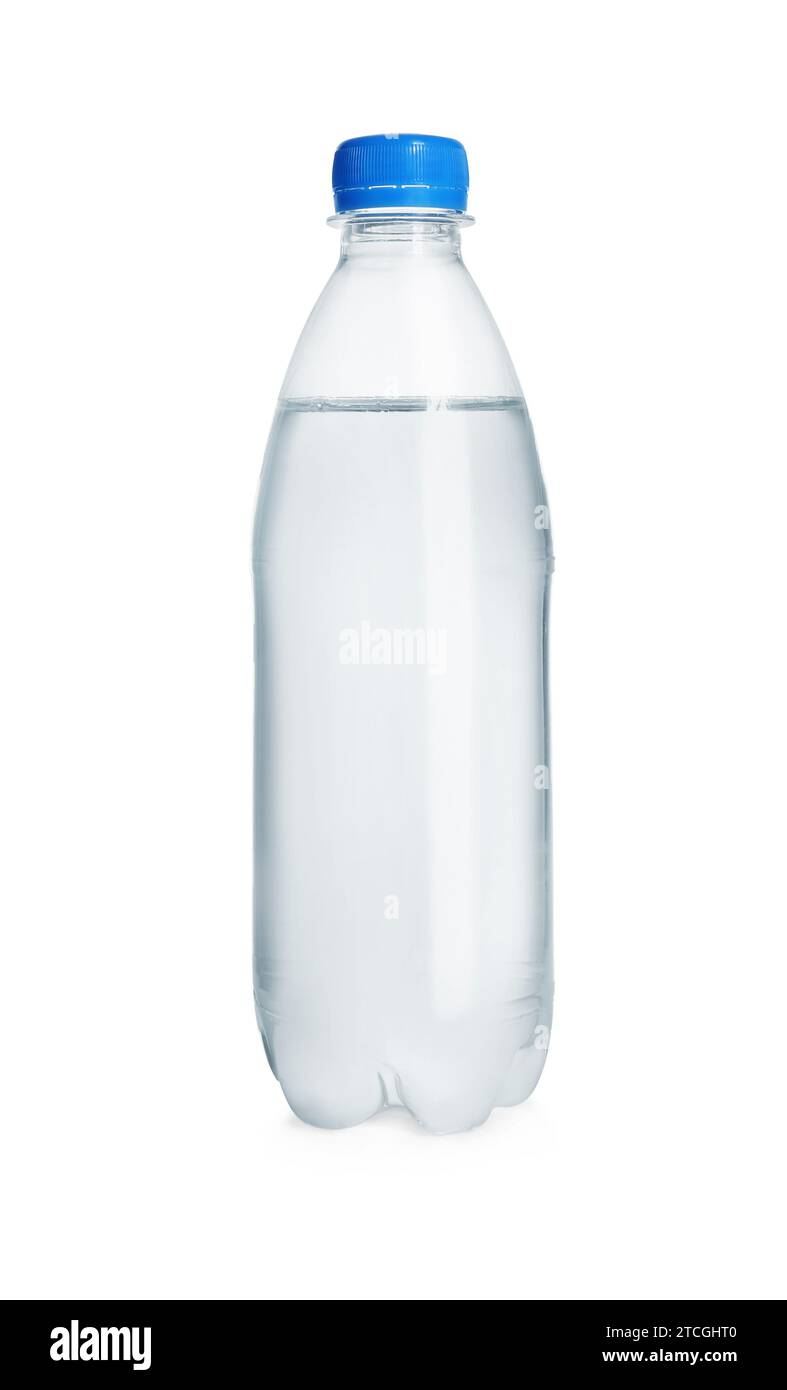bottle: (231, 100, 578, 1169)
